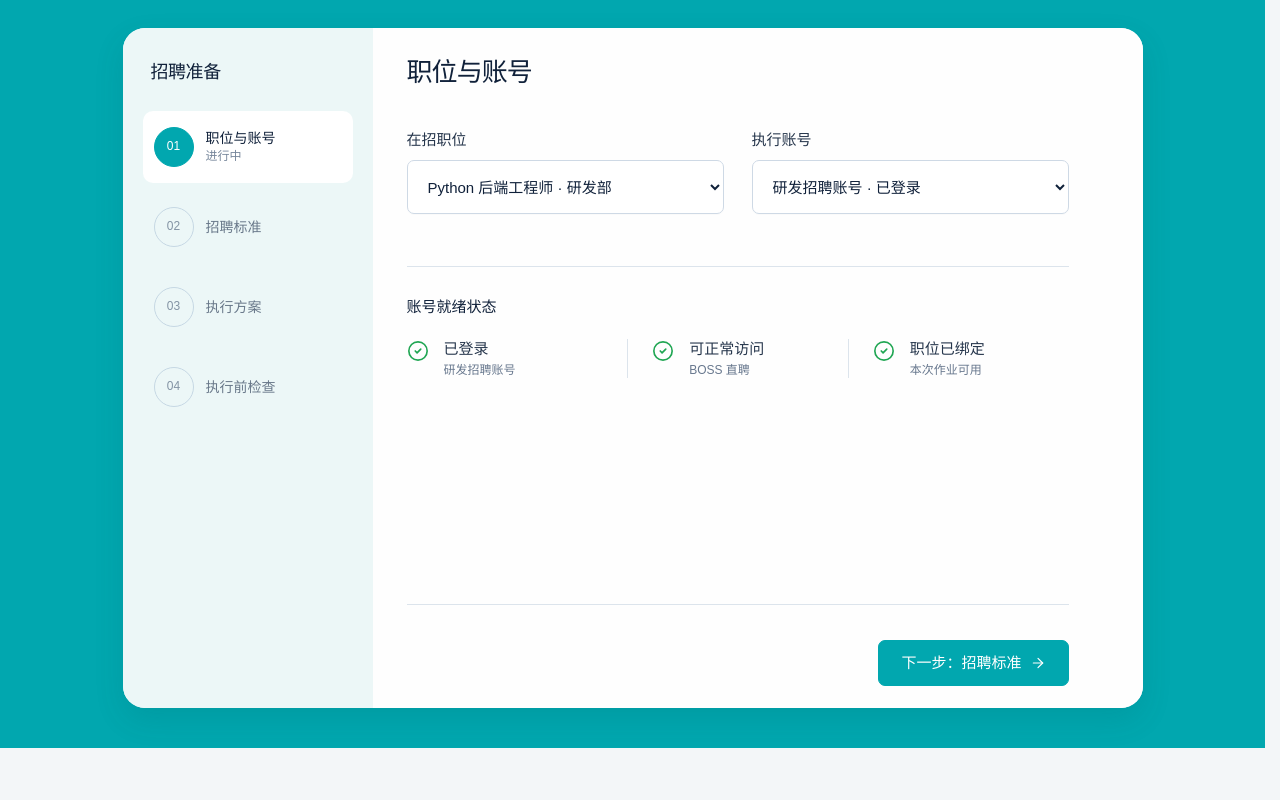
Scenario: RecruitmentWorkbenchView › removes a schema-invalid wizard draft and never treats a legacy operation receipt as truth
This screenshot has width=1280, height=800.
Click the button with test id "complete-context-step".
click(974, 662)  # box [878,640,1068,686]
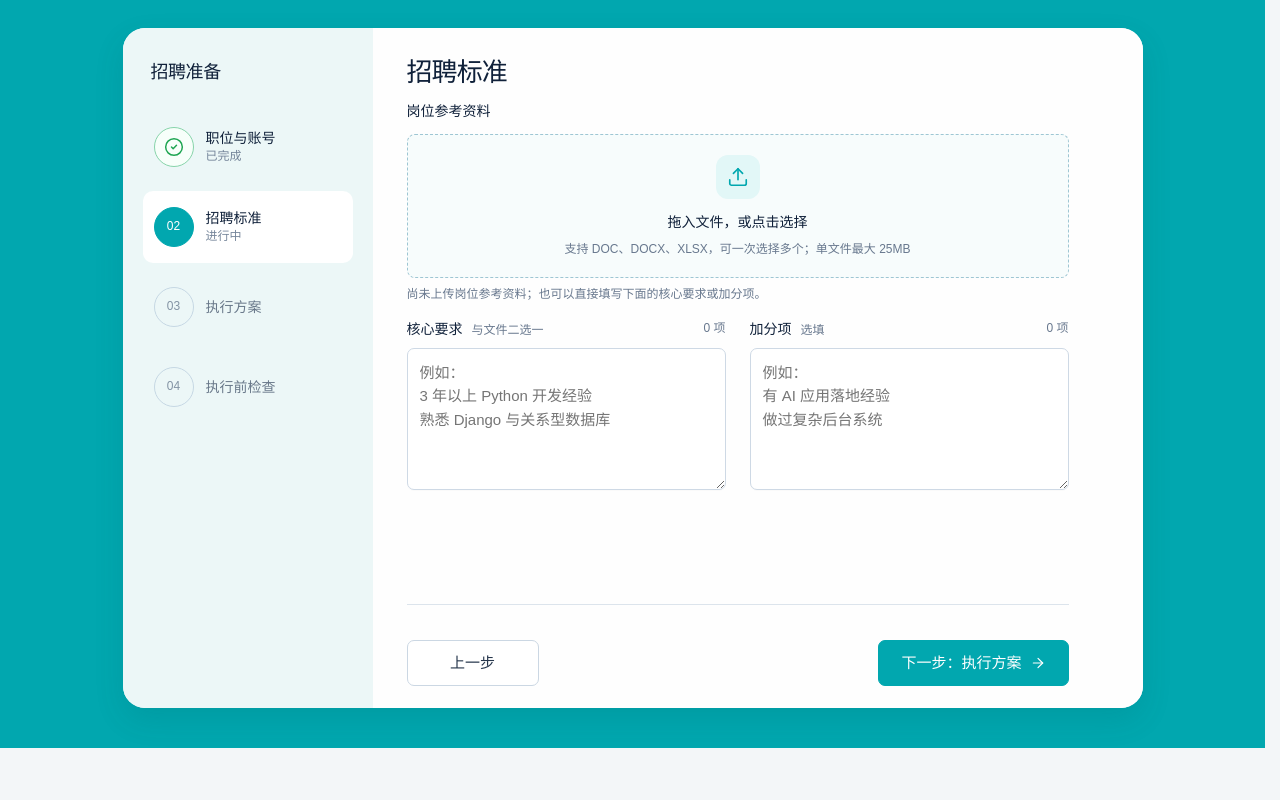
expect the element with test id "workbench-step-standard" is shown: met, box [406,100,1068,708]
expect the text box with test id "core-requirements" is empty: met, box [406,348,726,490]
expect the text box with test id "bonus-requirements" is empty: met, box [750,348,1068,490]
